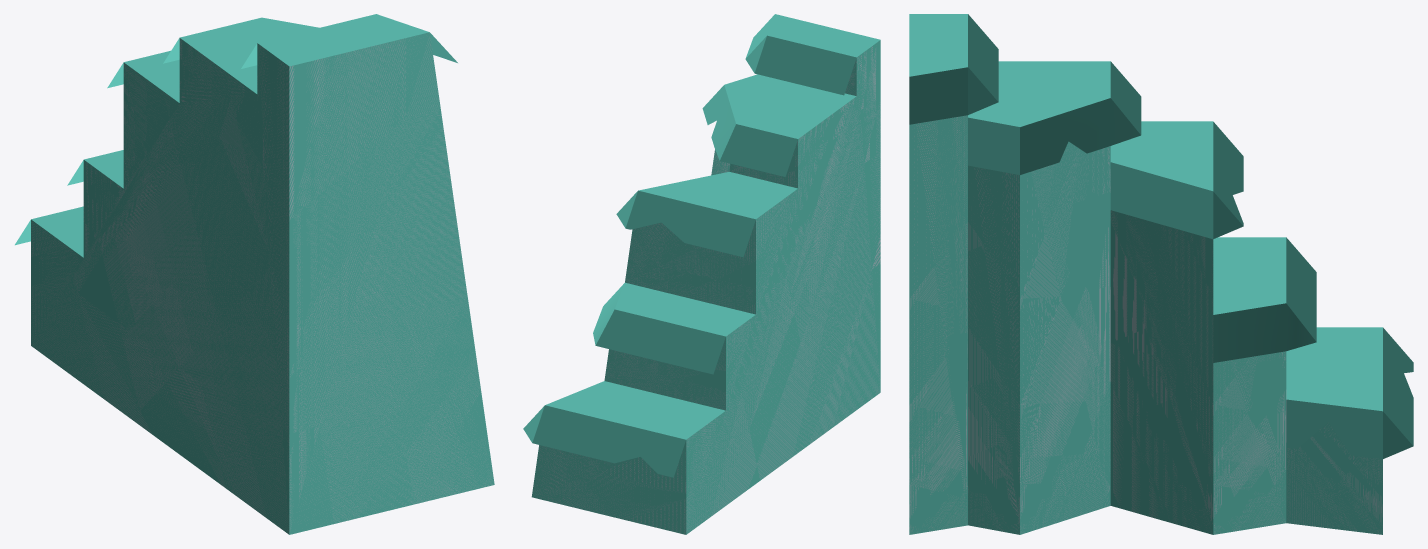
File: cliffGrey_stepsEnd.obj
3 views of the same model, side by side, from view 1: azimuth 30°, elevation 25°; view 2: azimuth 150°, elevation 25°; view 3: azimuth 270°, elevation 25° (orthographic). The views are drawn at different scales.
Parts seen in each view (by area): view 1: cliffGrey_stepsEnd; view 2: cliffGrey_stepsEnd; view 3: cliffGrey_stepsEnd.
Boxes of the visible parts, x1,y1,x2,y2 form: cliffGrey_stepsEnd: [15, 14, 494, 534]; cliffGrey_stepsEnd: [523, 14, 880, 534]; cliffGrey_stepsEnd: [909, 14, 1413, 534].
Bounding box in the file's own units: 4.84 × 10 × 10.64.
